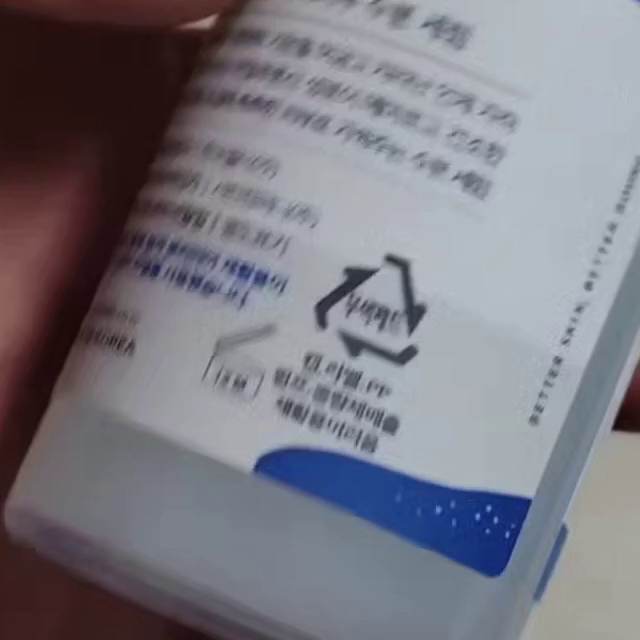ColorlessPet: (312, 251, 430, 367)
